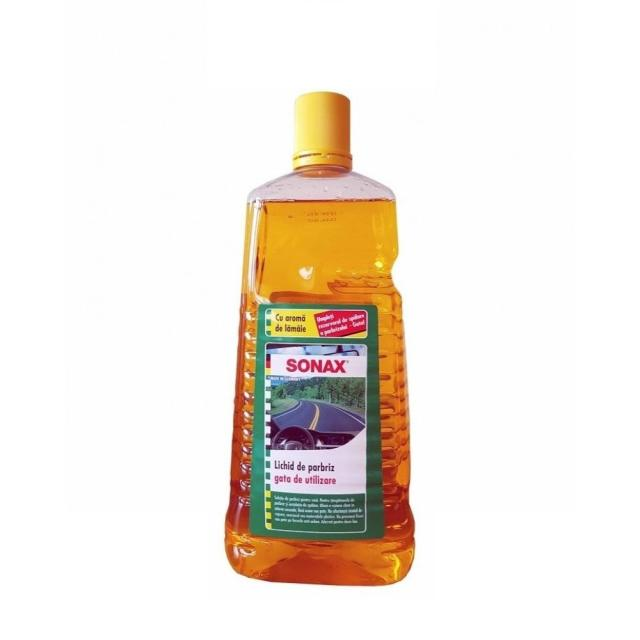winwinshield_washer: (225, 85, 417, 589)
